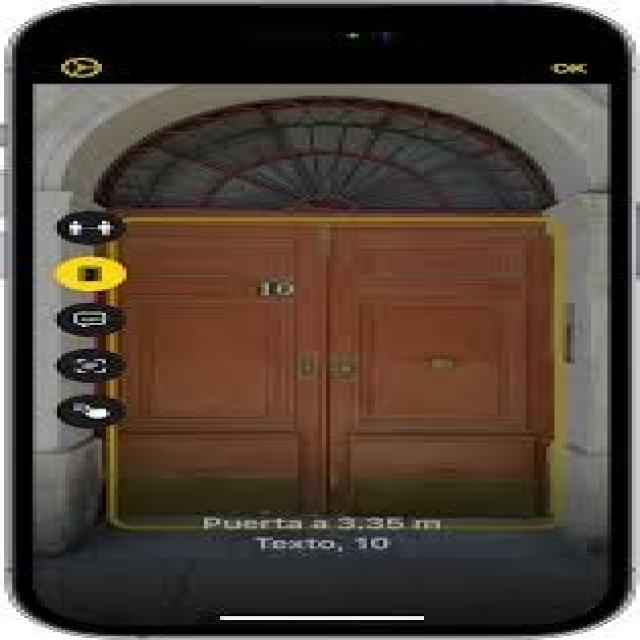door: (106, 215, 558, 528)
